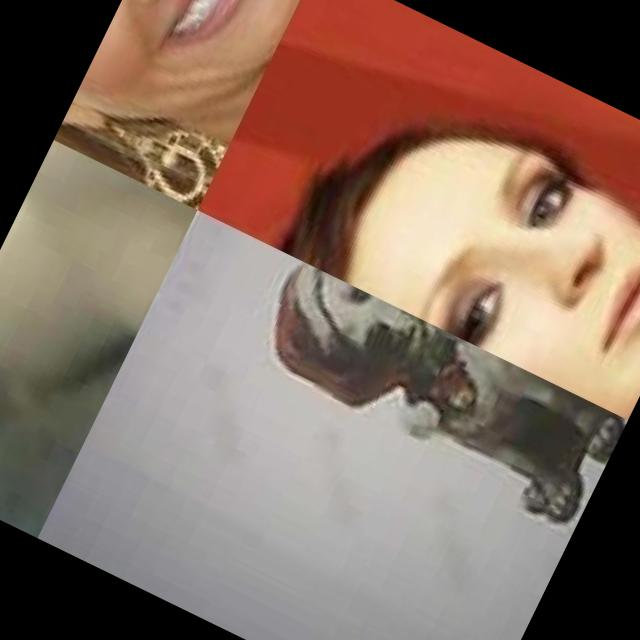bareface: (275, 68, 640, 420)
